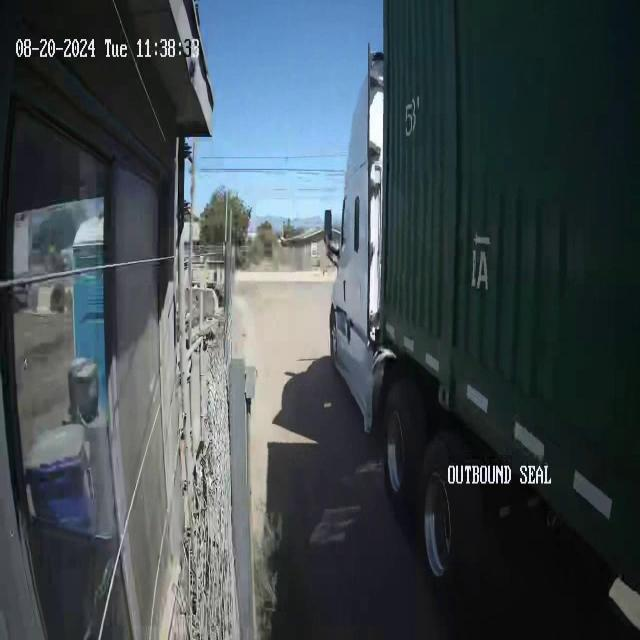TRUCK_CONTAINER: (323, 1, 639, 591)
